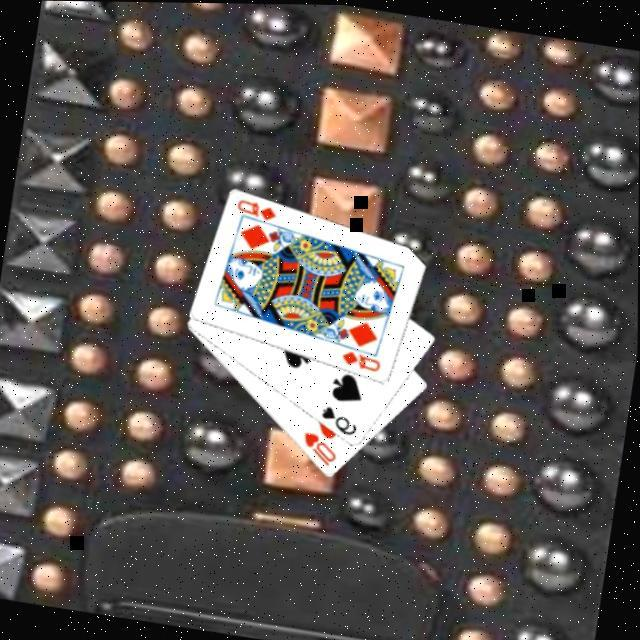10H: (300, 427, 345, 469)
6S: (318, 400, 364, 439)
QD: (234, 194, 283, 224), (340, 345, 387, 374)
